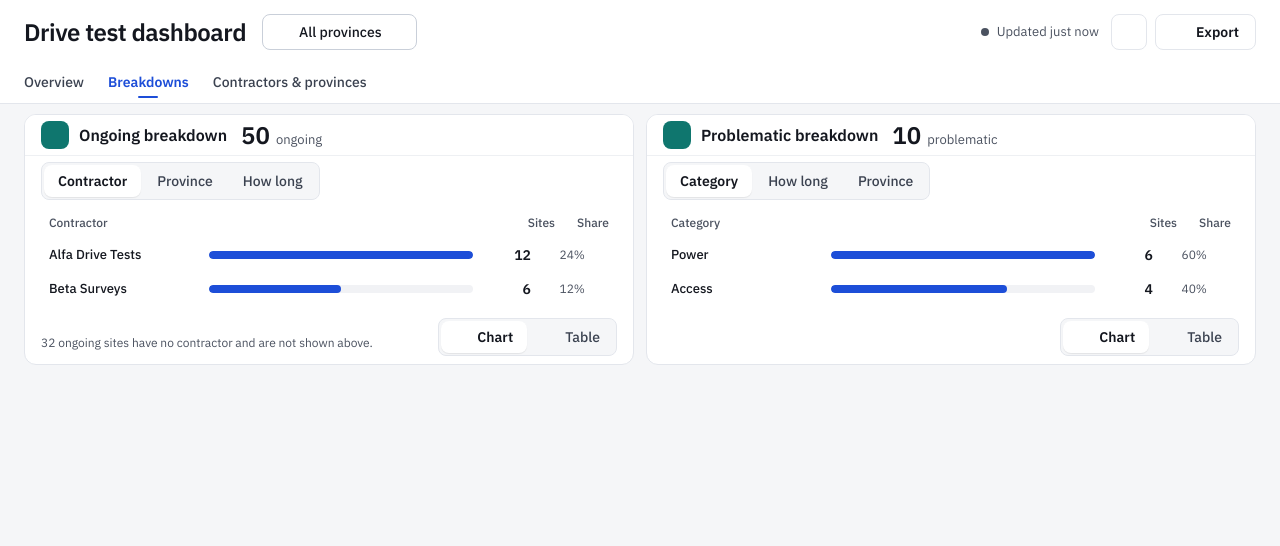
Test: breakdown sections › says how many ongoing sites cannot be aged, for the same reason
Click the tab "How long" below "50": (273, 181) [229,165,317,197]
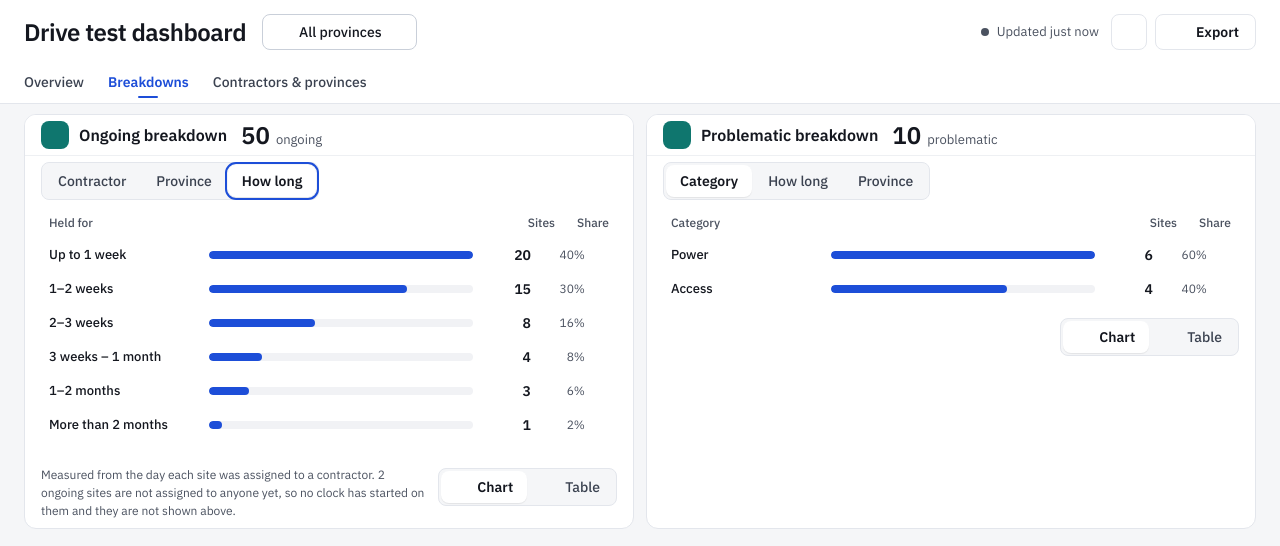
Expected: the text "2 ongoing sites are not assigned to anyone yet" is shown, [41,467,424,518]
